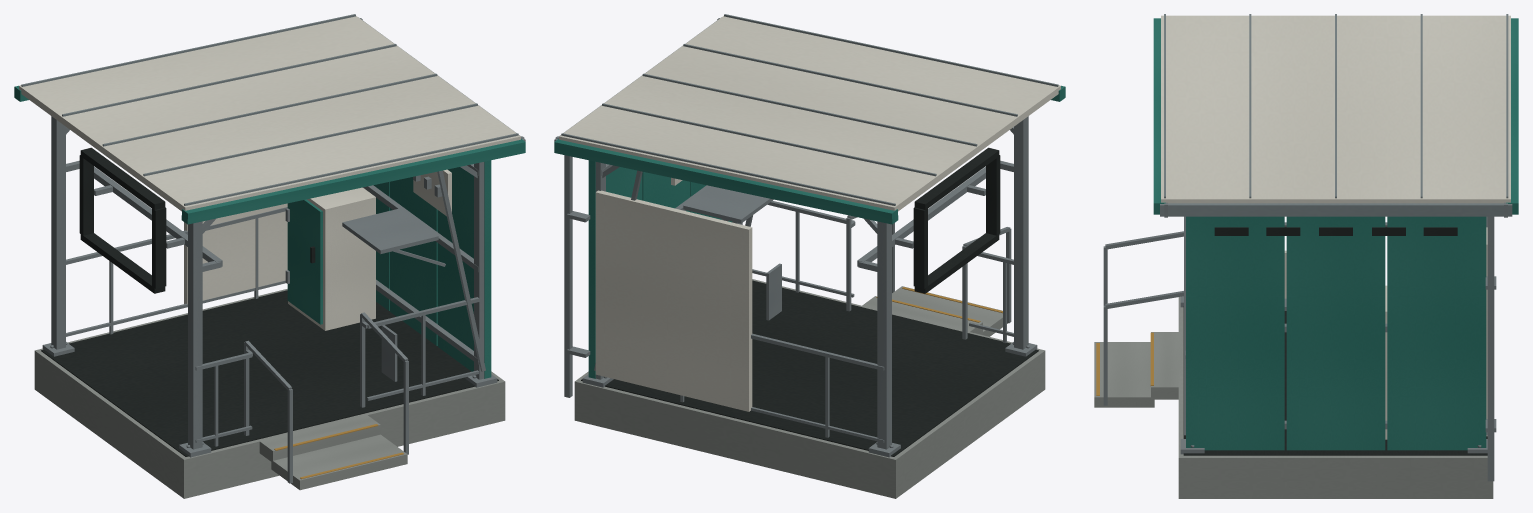
The model's file is aurel-marshal-posts.glb.
The picture shows the model from 3 angles, left to right: view 1: azimuth 30°, elevation 25°; view 2: azimuth 150°, elevation 25°; view 3: azimuth 270°, elevation 25°; orthographic projection. The views are drawn at different scales.
Parts seen in each view (by area): view 1: A06_OPEN_LOD0_SURFACES, A06_OPEN_LOD1_SURFACES, A06_SHELTERED_LOD1_SURFACES, A06_SHELTERED_LOD0_SURFACES; view 2: A06_OPEN_LOD0_SURFACES, A06_OPEN_LOD1_SURFACES, A06_SHELTERED_LOD0_SURFACES, A06_SHELTERED_LOD1_SURFACES; view 3: A06_OPEN_LOD0_SURFACES, A06_OPEN_LOD1_SURFACES.
Boxes of the visible parts, x1,y1,x2,y2 form: A06_OPEN_LOD0_SURFACES: [14, 15, 525, 495]; A06_OPEN_LOD1_SURFACES: [14, 14, 525, 498]; A06_SHELTERED_LOD1_SURFACES: [184, 204, 287, 304]; A06_SHELTERED_LOD0_SURFACES: [185, 203, 287, 303]; A06_OPEN_LOD0_SURFACES: [554, 15, 1065, 495]; A06_OPEN_LOD1_SURFACES: [554, 14, 1065, 498]; A06_SHELTERED_LOD0_SURFACES: [597, 191, 751, 410]; A06_SHELTERED_LOD1_SURFACES: [595, 190, 752, 411]; A06_OPEN_LOD0_SURFACES: [1096, 15, 1518, 495]; A06_OPEN_LOD1_SURFACES: [1094, 14, 1518, 498].
Size of the model in its own units: 3.3 by 2.78 by 3.37.
Materials: 1 (1 with a texture image).
